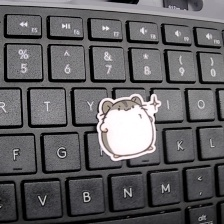mouse: (94, 92, 164, 163)
